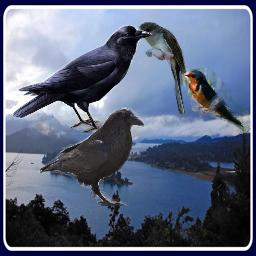Crow: (12, 25, 152, 135), (38, 107, 145, 206)
Cuckoo: (133, 22, 189, 114)
Swallow: (182, 68, 249, 133)
